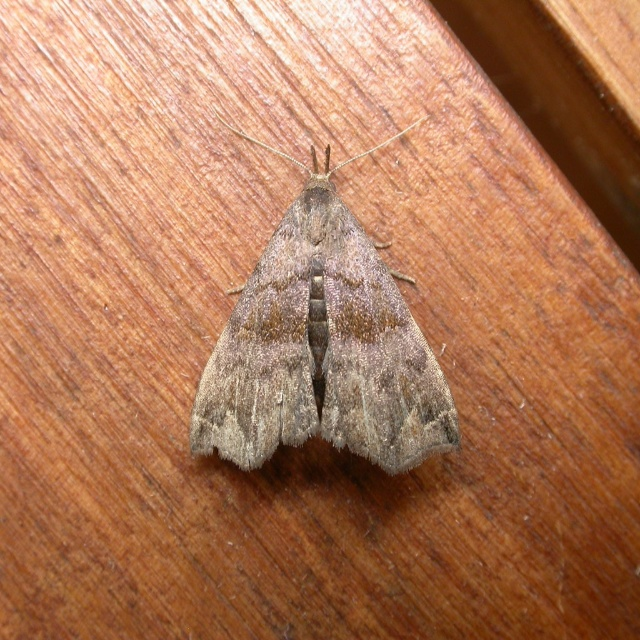Moths and butterflies: (182, 108, 470, 477)
